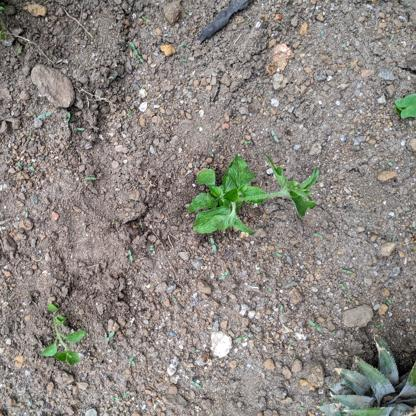pineapple: (326, 332, 416, 416)
weed: (188, 155, 322, 235), (40, 299, 88, 369)
